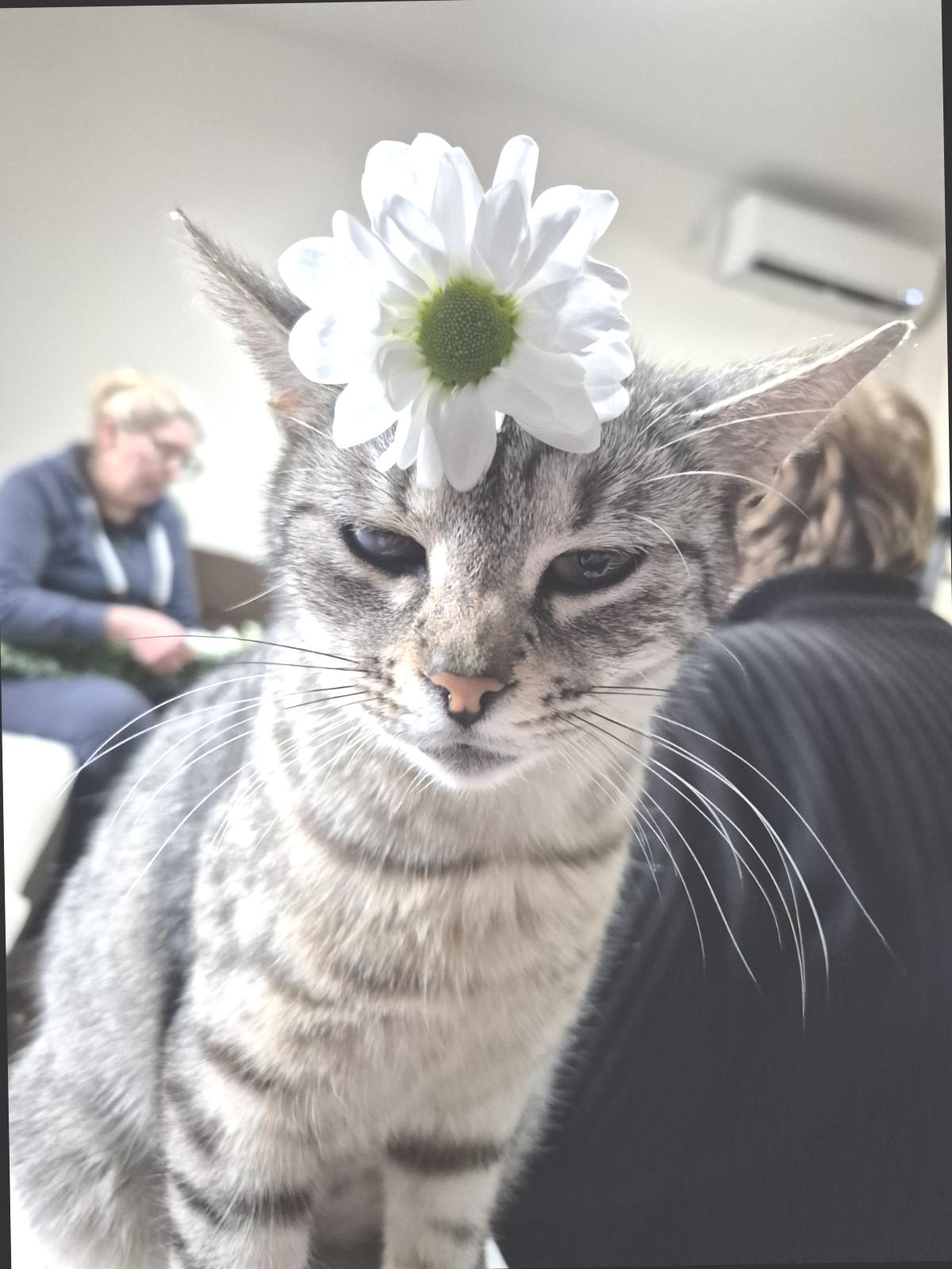macka: (0, 199, 924, 1269)
